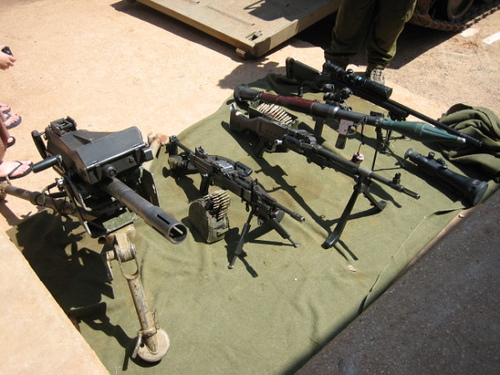rifle: (224, 60, 473, 144), (39, 119, 167, 257), (167, 136, 287, 230)
